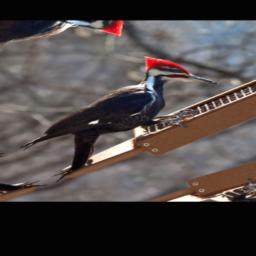Woodpecker: (0, 45, 256, 182)
